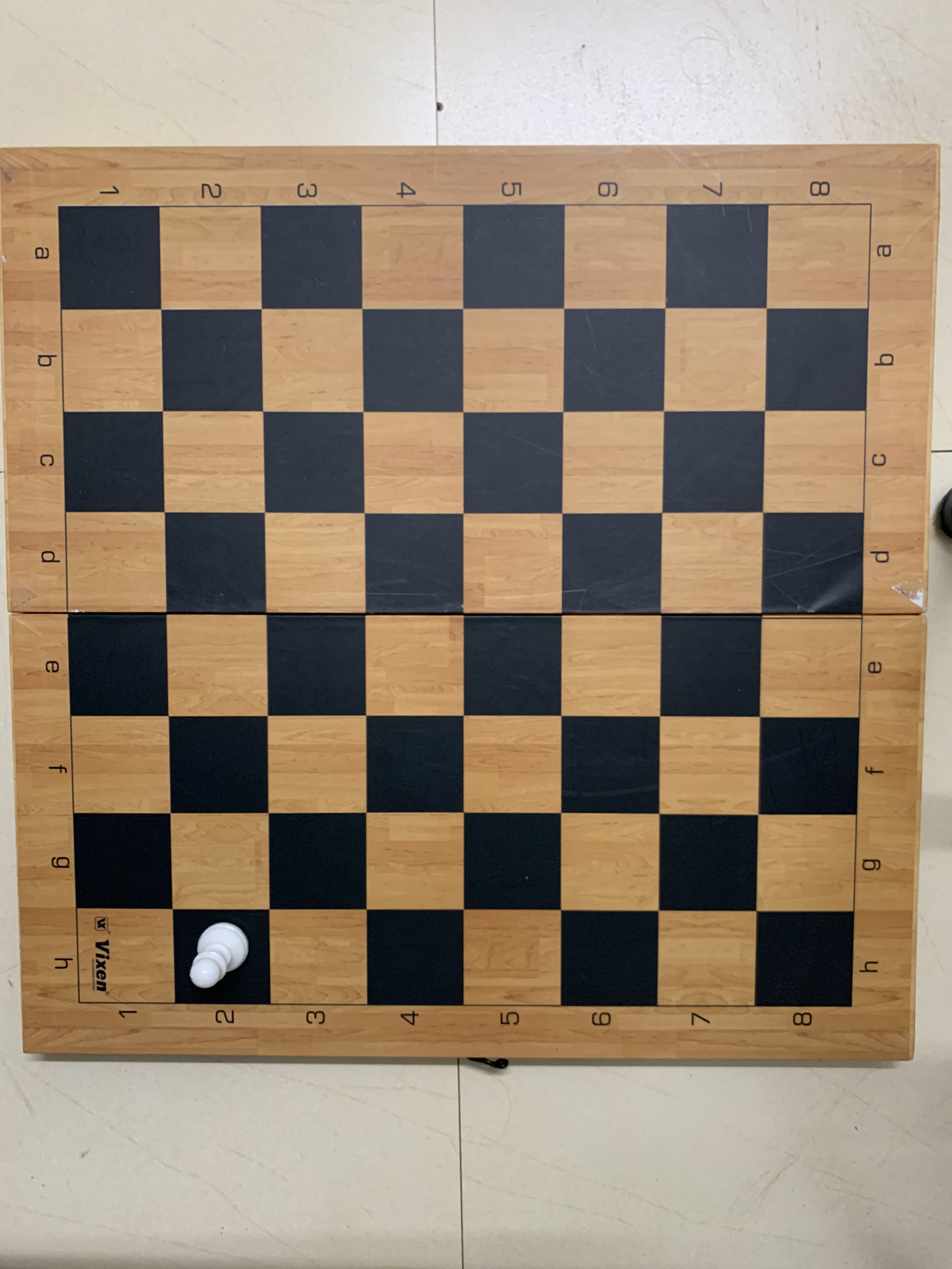white_pawn: (173, 908, 276, 1002)
